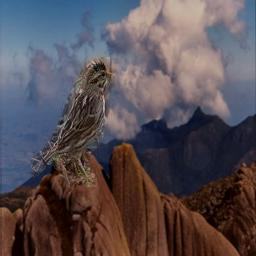Sparrow: (31, 57, 115, 187)
